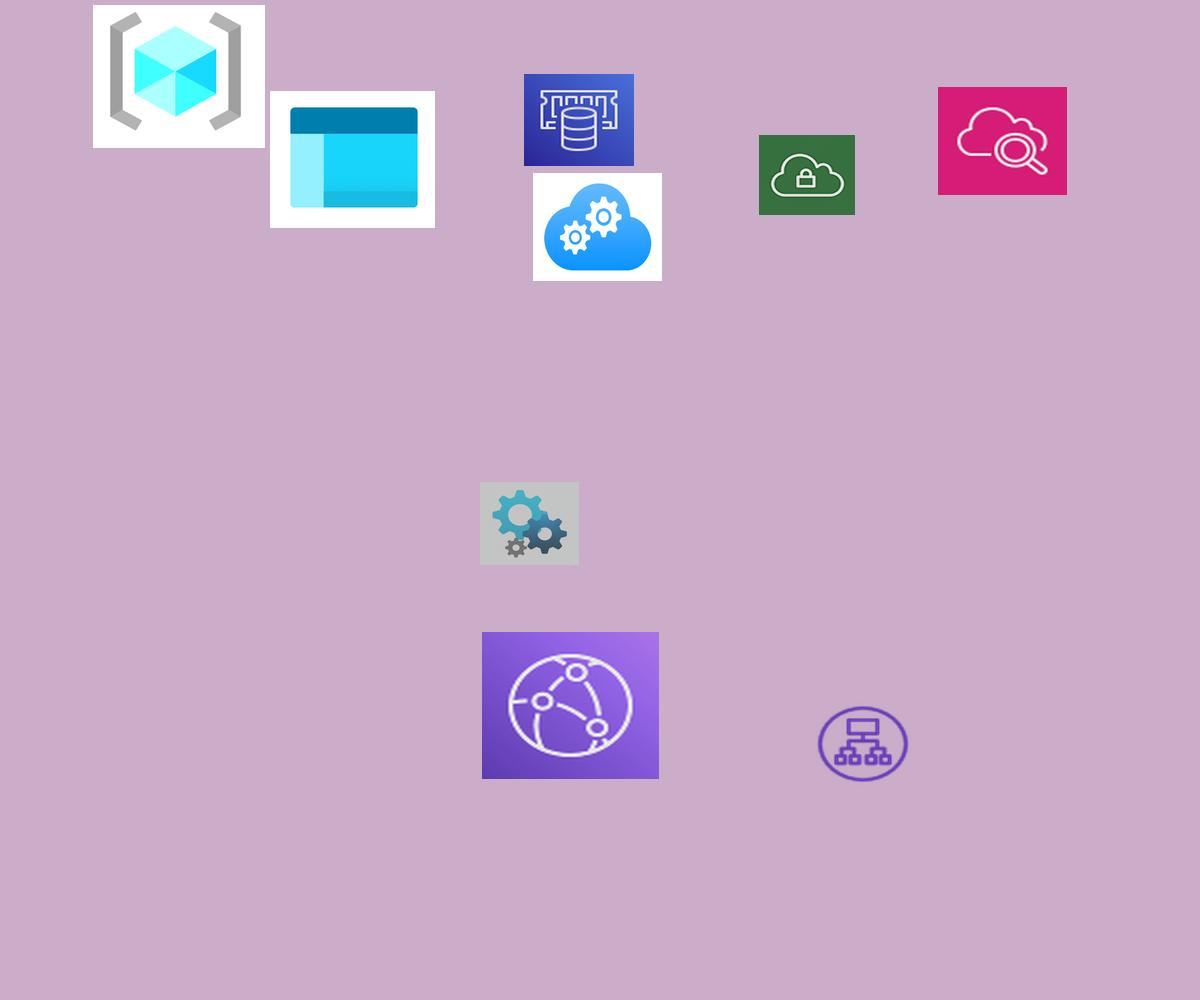AWS-CloudFront: (482, 632, 659, 779)
AWS-CloudWatch: (938, 87, 1067, 195)
AWS-ElastiCache: (524, 74, 634, 166)
AWS-Private_vpc: (759, 135, 855, 215)
AWS-Res_Elastic-Load-Balancing_Application-Load-Balancer: (814, 703, 912, 785)
Azure_api: (480, 482, 579, 565)
Azure_cloud_services: (533, 173, 662, 281)
Azure_management-portal: (270, 91, 435, 228)
Azure_resource_group: (93, 5, 265, 148)
